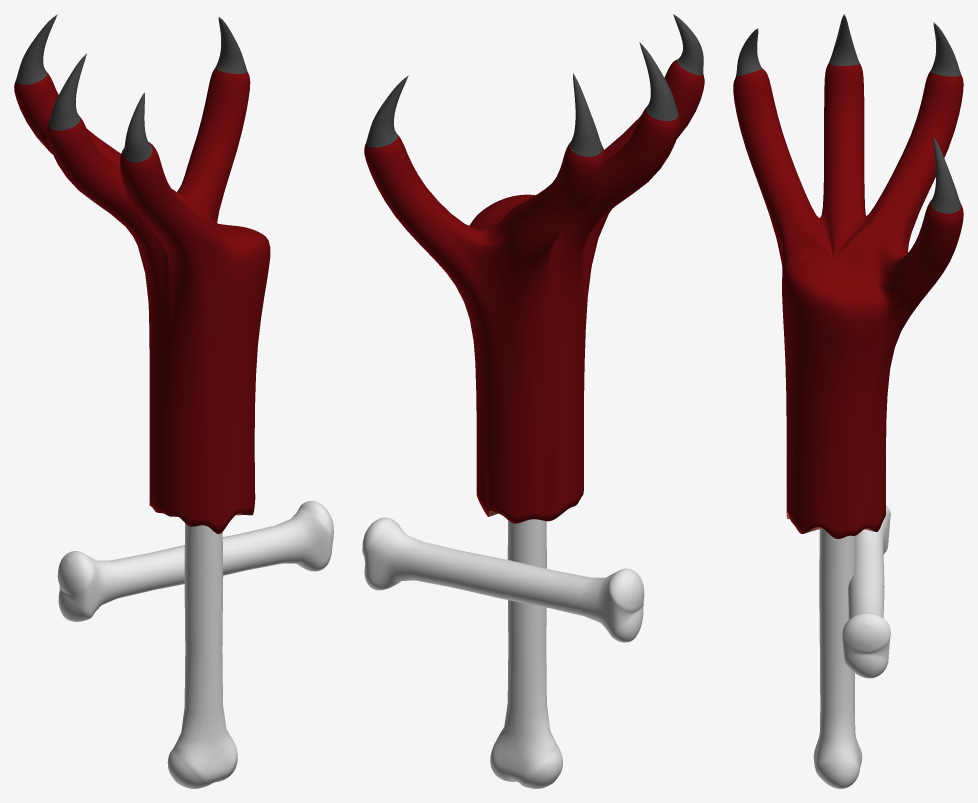
Rendered from Demonhandweapon.fbx.
3 renders of one model, left to right at view 1: azimuth 30°, elevation 25°; view 2: azimuth 150°, elevation 25°; view 3: azimuth 270°, elevation 25°, orthographic. The views are drawn at different scales.
Parts seen in each view (by area): view 1: Circle, Circle.002, Circle.001; view 2: Circle, Circle.002, Circle.001; view 3: Circle, Circle.001, Circle.002.
Part boxes in pixels (<box>): Circle: <box>14,14,270,533</box>; Circle.002: <box>57,500,333,621</box>; Circle.001: <box>167,523,237,788</box>; Circle: <box>364,14,704,523</box>; Circle.002: <box>362,517,644,642</box>; Circle.001: <box>490,519,562,788</box>; Circle: <box>733,14,963,538</box>; Circle.001: <box>813,528,862,788</box>; Circle.002: <box>842,505,890,678</box>.
Bounding box in the file's own units: 163 × 404 × 118.
